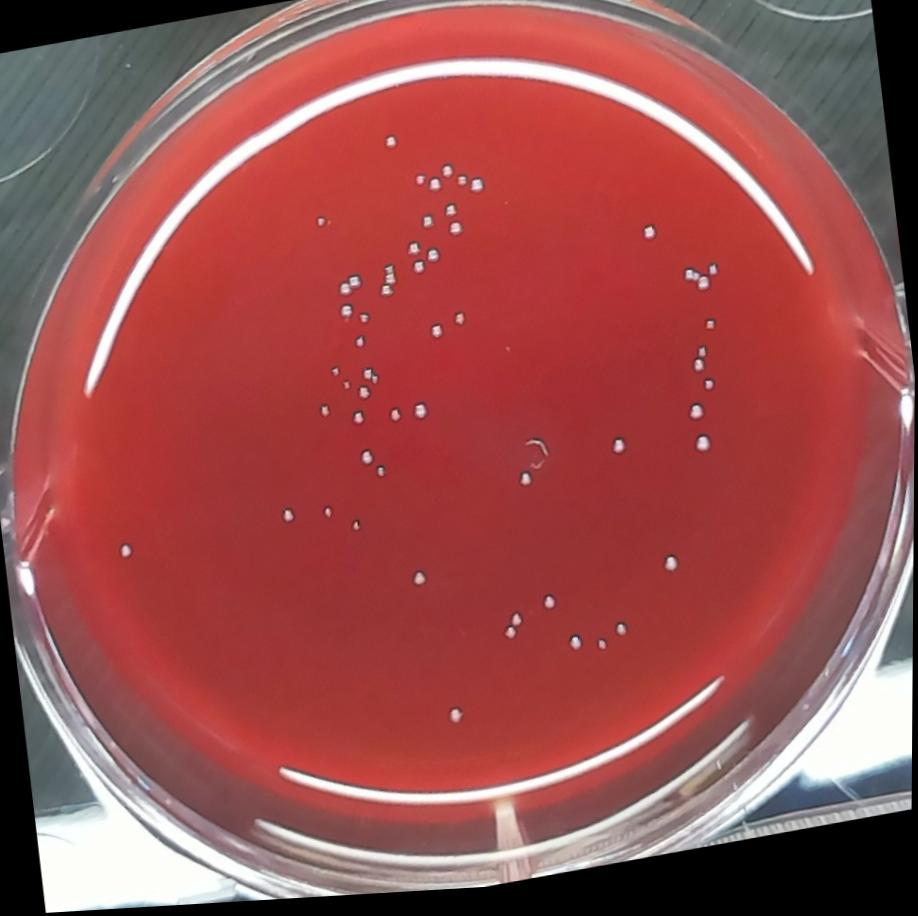staphylo-: (683, 272, 716, 308), (375, 263, 402, 304), (501, 615, 529, 650), (407, 568, 436, 601), (658, 556, 688, 587), (332, 275, 365, 303), (692, 436, 717, 470), (608, 436, 633, 469), (636, 227, 662, 255), (684, 408, 708, 435), (361, 366, 385, 393), (278, 504, 299, 534), (538, 596, 562, 622), (612, 624, 636, 650), (411, 403, 434, 429), (448, 314, 474, 337), (427, 325, 449, 352), (447, 708, 468, 736), (118, 538, 138, 566), (372, 466, 391, 493), (381, 136, 404, 158), (445, 223, 467, 245), (385, 408, 406, 431), (516, 473, 536, 497), (404, 242, 424, 266), (319, 503, 339, 527), (469, 179, 487, 205), (359, 450, 378, 474), (567, 640, 587, 662), (337, 305, 356, 328), (349, 412, 369, 433), (442, 204, 461, 226), (356, 386, 374, 408), (420, 216, 438, 238), (426, 180, 444, 202), (440, 165, 457, 188), (596, 639, 613, 662), (700, 383, 719, 403), (316, 406, 334, 427), (351, 336, 369, 357), (347, 518, 365, 539), (410, 262, 427, 284), (691, 365, 708, 385), (426, 249, 442, 270), (695, 351, 712, 370), (453, 176, 470, 195), (412, 176, 429, 195), (703, 324, 719, 344), (358, 313, 373, 334), (328, 368, 343, 384), (341, 381, 354, 398)
